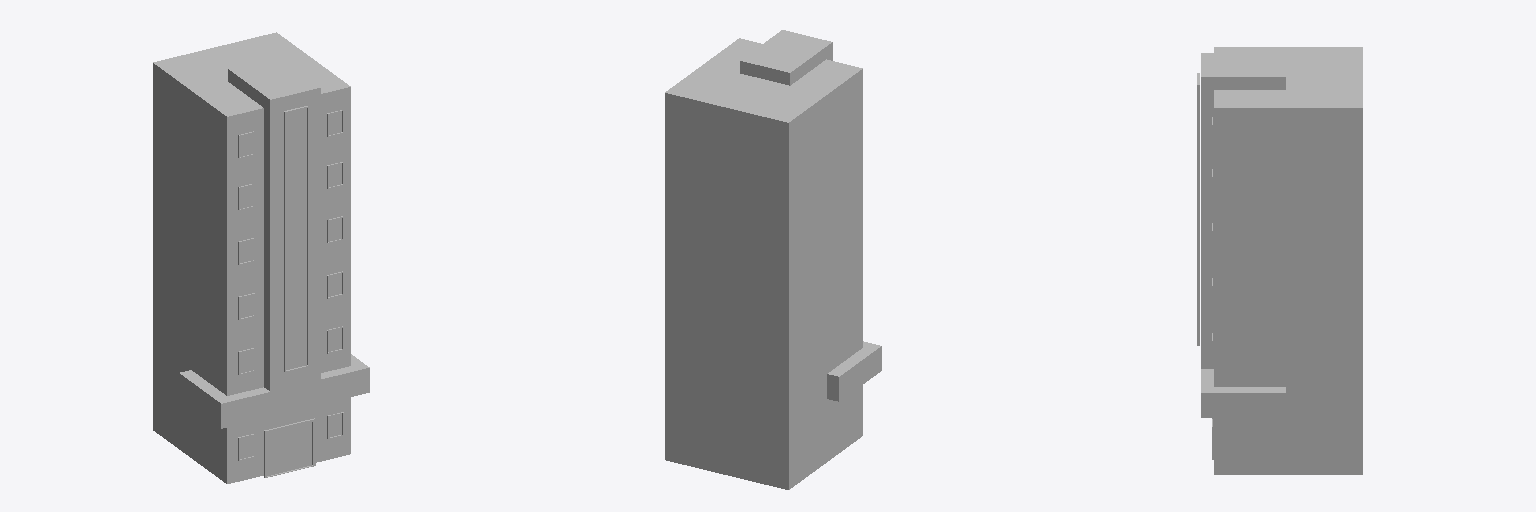
Rendered from building2.obj.
3 views of the same model, side by side, from view 1: azimuth 30°, elevation 25°; view 2: azimuth 150°, elevation 25°; view 3: azimuth 270°, elevation 25° (orthographic).
Parts seen in each view (by area): view 1: polySurface614 city; view 2: polySurface614 city; view 3: polySurface614 city.
Boxes of the visible parts, <box> form: polySurface614 city: <box>153,32,369,483</box>; polySurface614 city: <box>665,30,881,489</box>; polySurface614 city: <box>1197,47,1362,474</box>.
Size of the model in its own units: 4.26 by 10.48 by 4.1.